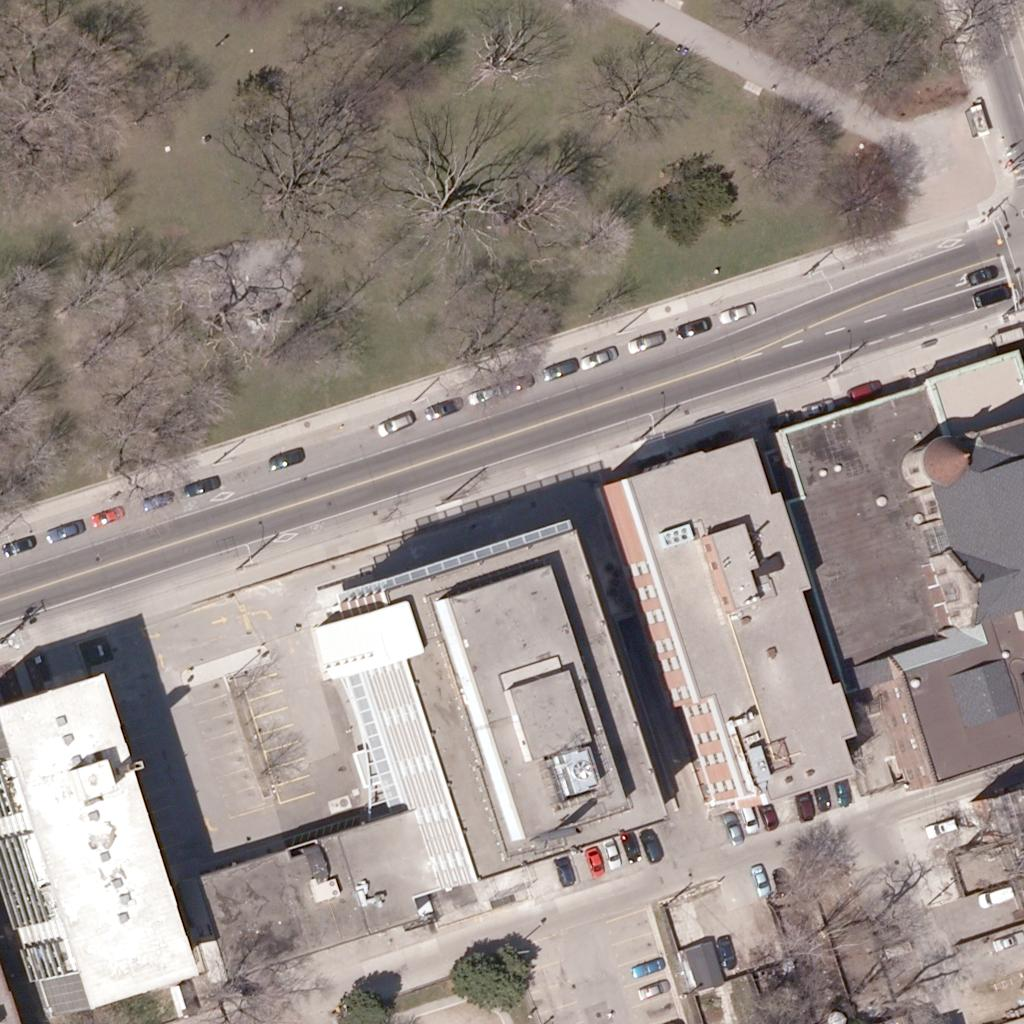car: (965, 256, 999, 290), (981, 274, 1015, 308), (978, 276, 1012, 310), (720, 294, 754, 328), (676, 308, 710, 342), (630, 323, 664, 357), (582, 339, 616, 373), (543, 350, 577, 384), (499, 365, 533, 399), (848, 374, 882, 408), (467, 375, 501, 409), (428, 389, 462, 423), (379, 406, 413, 440), (266, 440, 300, 474), (185, 466, 219, 500), (140, 481, 174, 515), (88, 498, 122, 532), (49, 514, 83, 548), (2, 525, 36, 559), (825, 768, 859, 802), (803, 776, 837, 810), (789, 792, 823, 826), (730, 796, 764, 830), (751, 799, 785, 833), (927, 811, 961, 845), (718, 813, 752, 847), (613, 827, 647, 861), (635, 827, 669, 861), (595, 833, 629, 867), (576, 842, 610, 876), (549, 853, 583, 887), (743, 861, 777, 895), (765, 865, 799, 899), (981, 878, 1015, 912), (710, 933, 744, 967), (633, 949, 667, 983), (635, 970, 669, 1004), (993, 923, 1024, 957)
